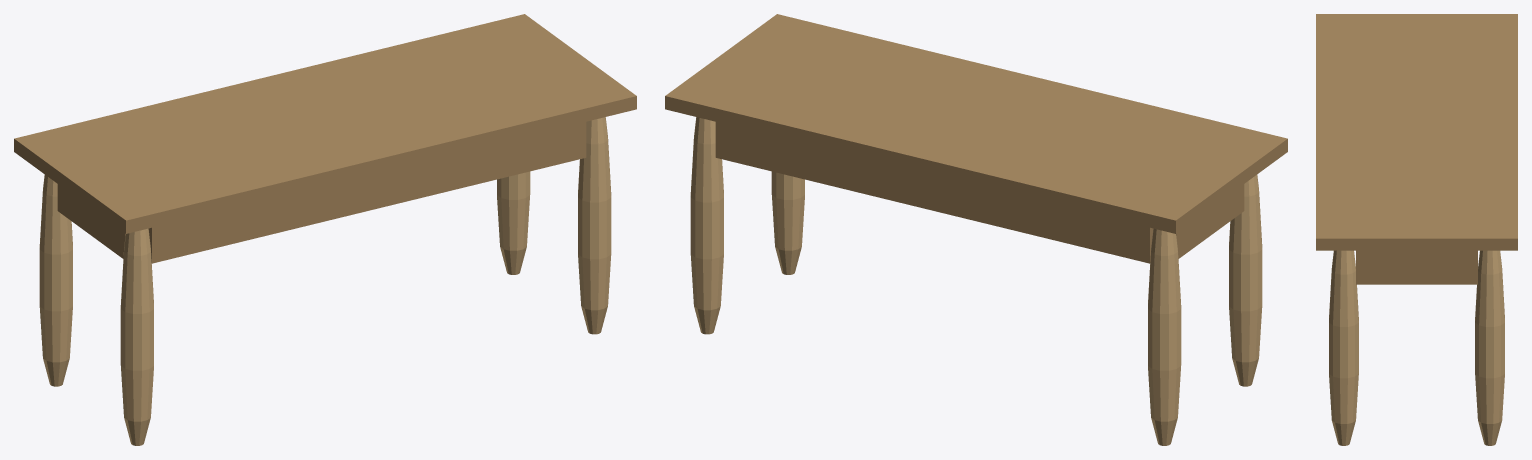
Rendered from SAB-EBN-std.glb.
3 renders of one model, left to right at view 1: azimuth 30°, elevation 25°; view 2: azimuth 150°, elevation 25°; view 3: azimuth 270°, elevation 25°, orthographic. The views are drawn at different scales.
Visible parts, largest first — view 1: top:pbr, apron-f:pbr, leg-fl:pbr, leg-fr:pbr, leg-bl:pbr, leg-br:pbr, apron-l:pbr; view 2: top:pbr, apron-b:pbr, leg-bl:pbr, leg-br:pbr, leg-fl:pbr, leg-fr:pbr, apron-l:pbr; view 3: top:pbr, leg-fr:pbr, leg-br:pbr, apron-r:pbr.
Part boxes in pixels (box(x1,y1,x2,y2)): top:pbr: box(14, 14, 636, 233); apron-f:pbr: box(148, 122, 586, 263); leg-fl:pbr: box(120, 228, 153, 445); leg-fr:pbr: box(578, 117, 611, 334); leg-bl:pbr: box(39, 174, 72, 386); leg-br:pbr: box(497, 171, 530, 274); apron-l:pbr: box(57, 184, 125, 258); top:pbr: box(665, 14, 1287, 233); apron-b:pbr: box(715, 122, 1153, 263); leg-bl:pbr: box(1148, 228, 1181, 445); leg-br:pbr: box(690, 117, 723, 334); leg-fl:pbr: box(1229, 174, 1262, 386); leg-fr:pbr: box(771, 171, 804, 274); apron-l:pbr: box(1176, 184, 1244, 258); top:pbr: box(1316, 14, 1517, 250); leg-fr:pbr: box(1329, 250, 1358, 445); leg-br:pbr: box(1475, 250, 1504, 445); apron-r:pbr: box(1356, 250, 1477, 284).
Size of the model in its own units: 1 by 0.45 by 0.38.
